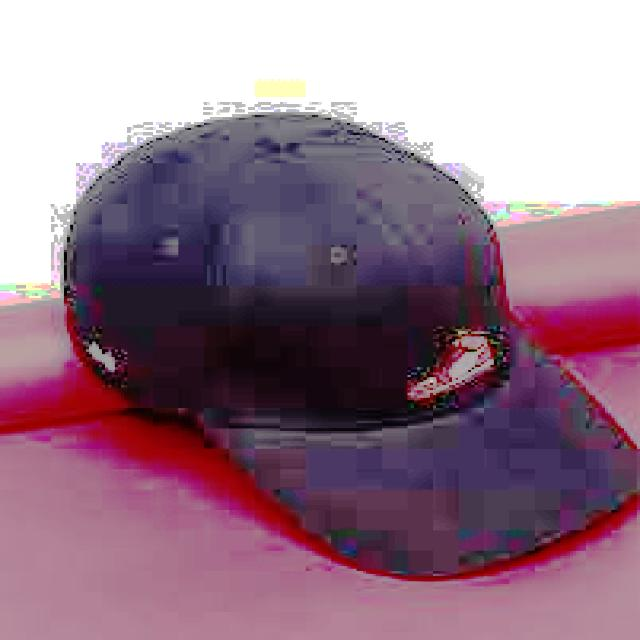TOPI: (44, 99, 634, 584)
